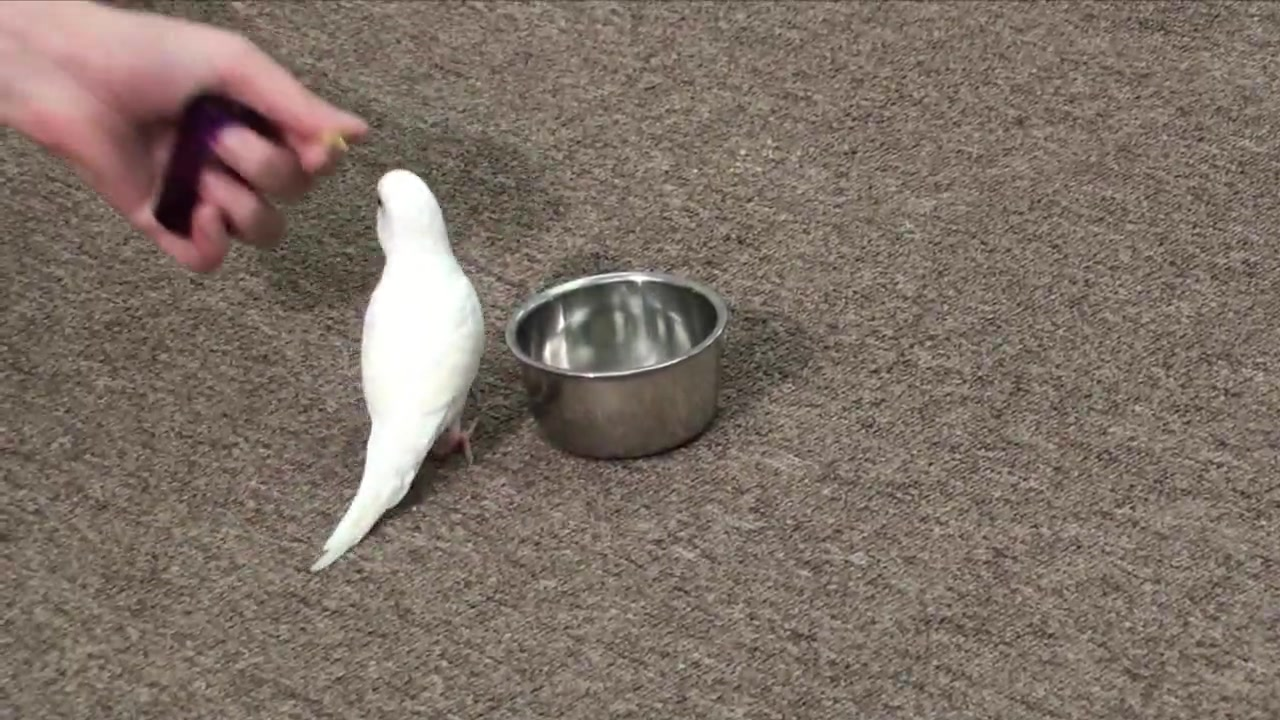bird: (308, 165, 491, 571)
